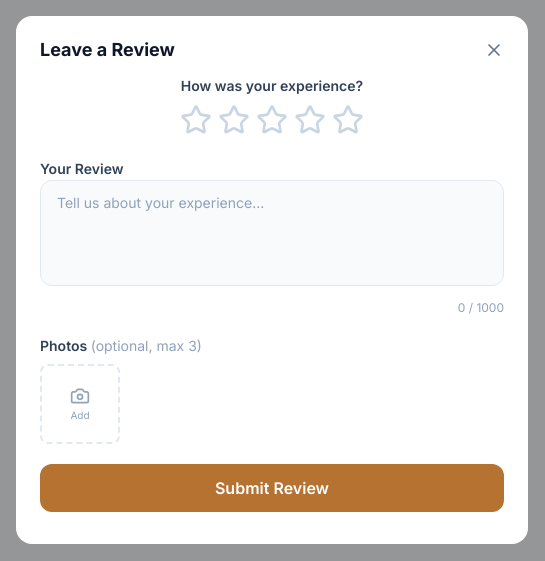
Test: reviews components › PostReviewDialog submits review
Expected: the heading "Leave a Review" is shown, [40, 36, 175, 64]
Click the 6th button: (348, 120) [332, 104, 364, 136]
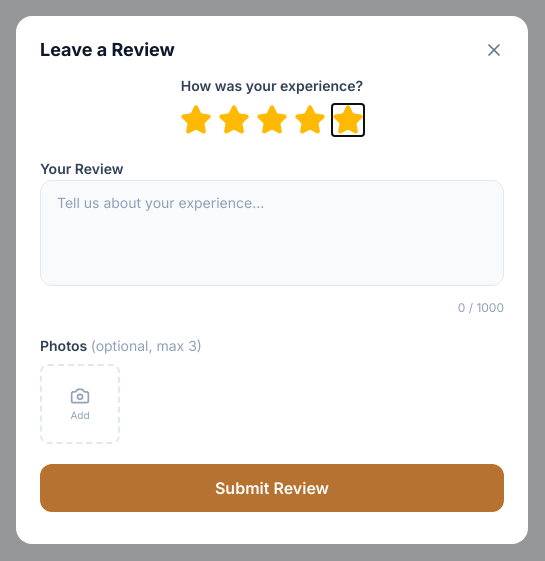
Click the button "Submit Review": (272, 488) [40, 464, 504, 512]
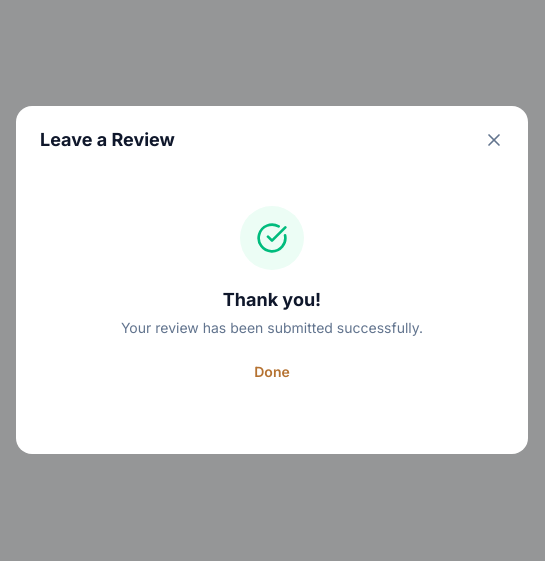
Expected: the heading "Thank you!" is shown, [223, 286, 321, 314]
